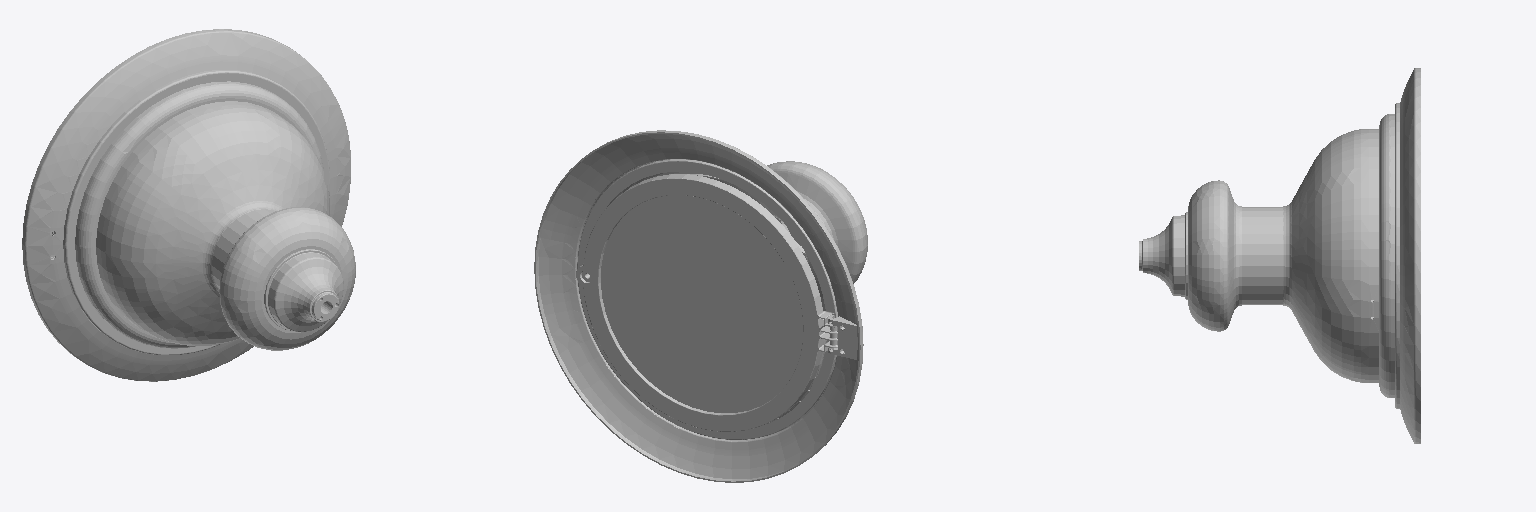
3 renders of one model, left to right at view 1: azimuth 30°, elevation 25°; view 2: azimuth 150°, elevation 25°; view 3: azimuth 270°, elevation 25°, orthographic.
Parts seen in each view (by area): view 1: Part__Feature; view 2: Part__Feature; view 3: Part__Feature.
Part boxes in pixels (x1,y1,x2,y2): Part__Feature: (22, 29, 355, 381); Part__Feature: (534, 130, 867, 482); Part__Feature: (1139, 68, 1420, 443).
Size of the model in its own units: 602 by 602 by 451.